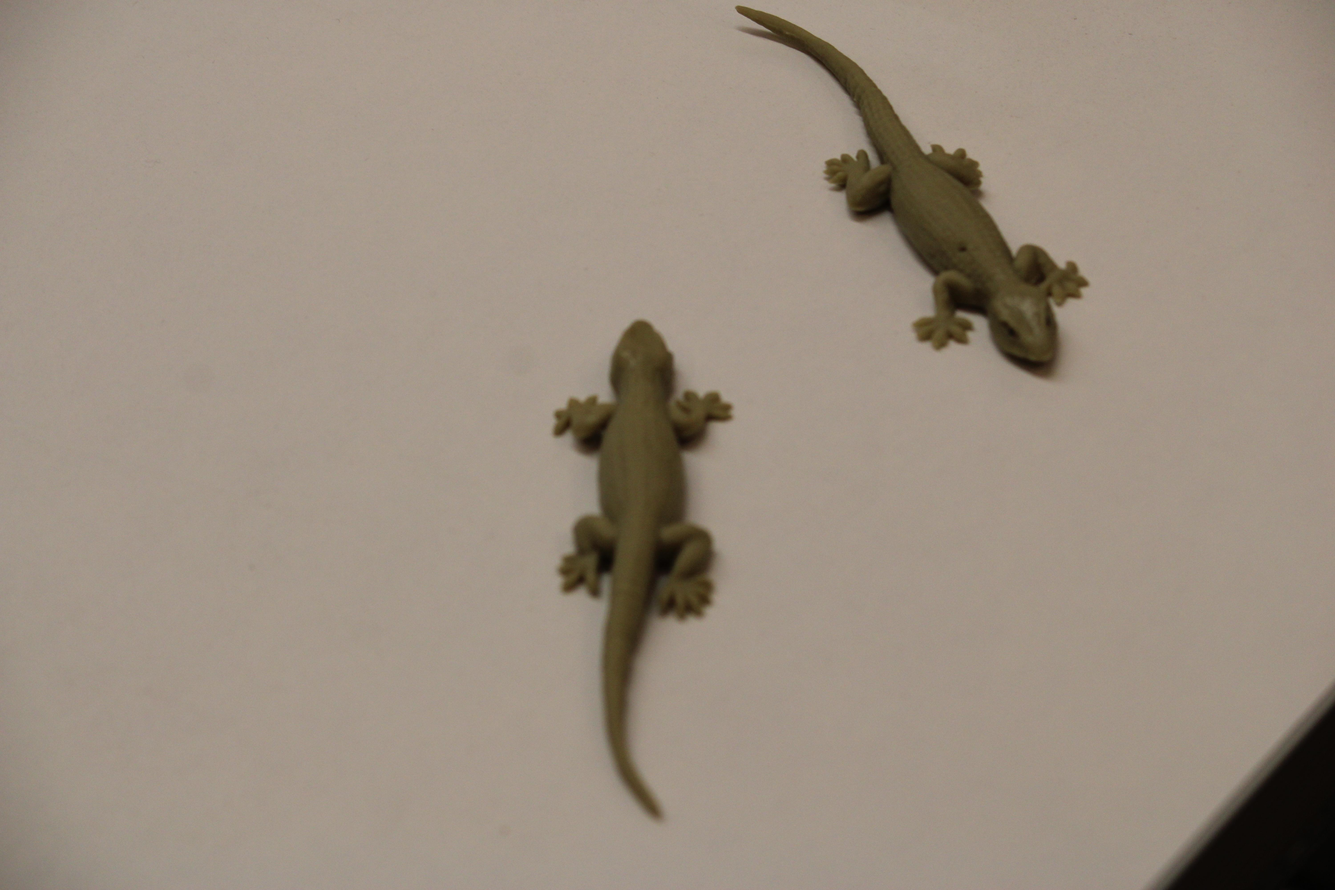lizard: (735, 3, 1095, 374), (557, 307, 744, 822)
